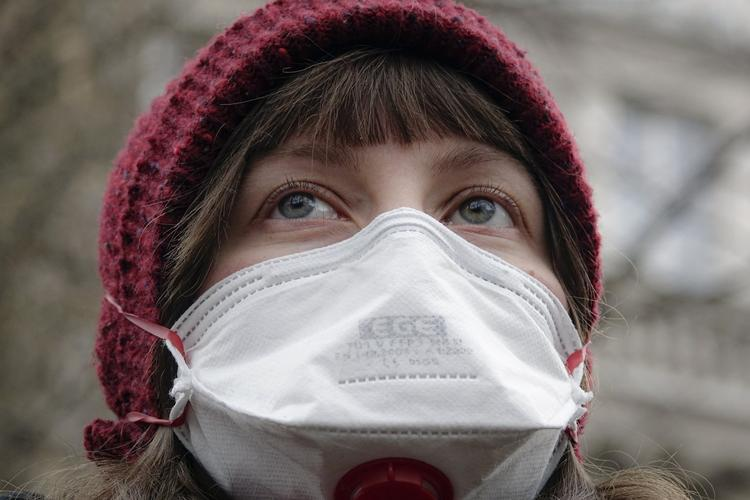mask: (170, 127, 590, 500)
